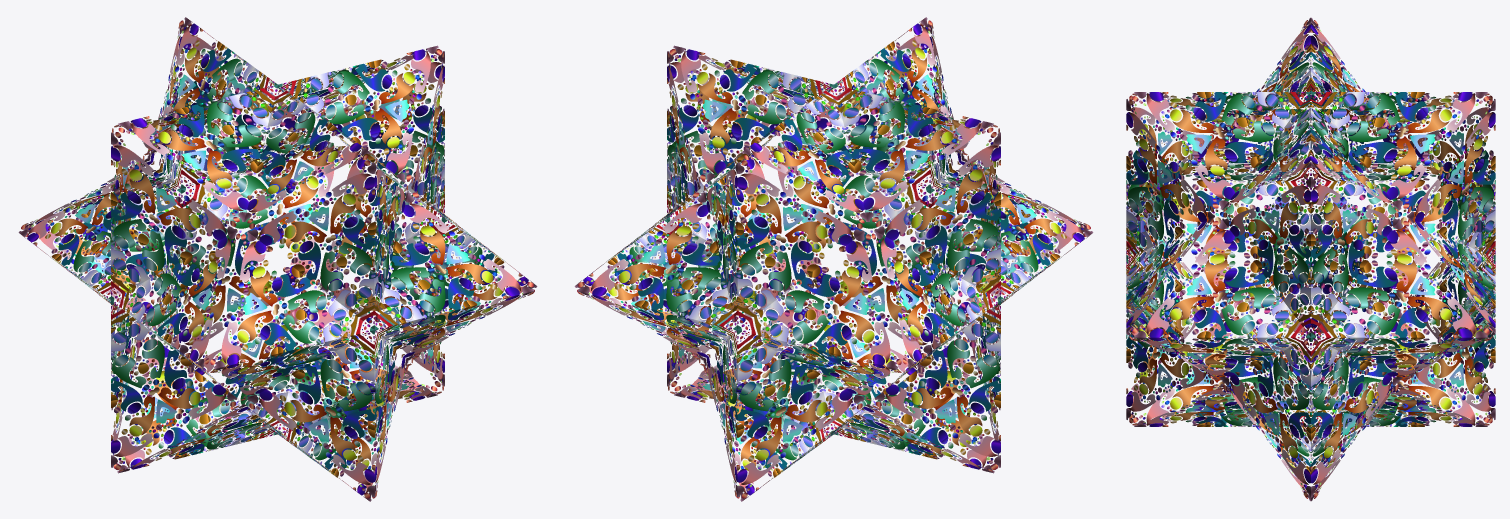
Rendered from Escher.obj.
3 views of the same model, side by side, from view 1: azimuth 30°, elevation 25°; view 2: azimuth 150°, elevation 25°; view 3: azimuth 270°, elevation 25° (orthographic). The views are drawn at different scales.
Bounding box in the file's own units: 2 × 2 × 2.
1 material, 1 textured.
